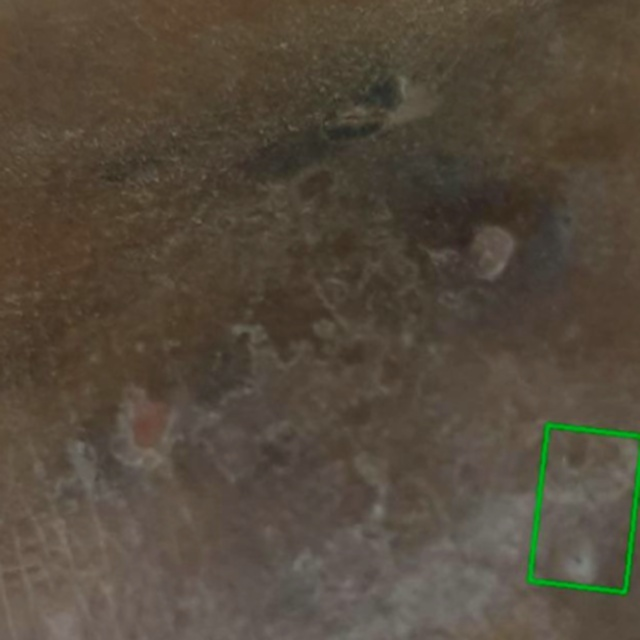Eczema: (529, 424, 639, 591)
